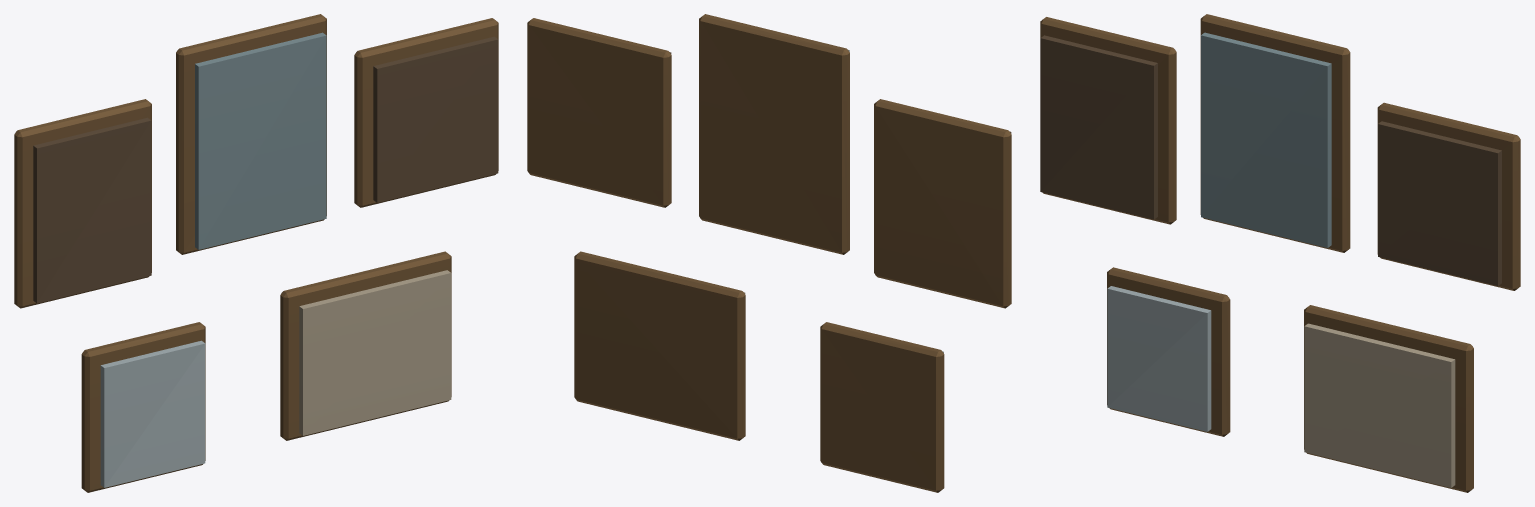
The model's file is gallery_set.glb.
3 renders of one model, left to right at view 1: azimuth 30°, elevation 25°; view 2: azimuth 150°, elevation 25°; view 3: azimuth 330°, elevation 25°, orthographic.
Parts seen in each view (by area): view 1: gallery_set; view 2: gallery_set; view 3: gallery_set.
Part boxes in pixels (x1,y1,x2,y2): gallery_set: (14,14,498,492); gallery_set: (527,14,1011,492); gallery_set: (1040,14,1520,492).
Bounding box in the file's own units: 1.43 × 1.19 × 0.0755.
